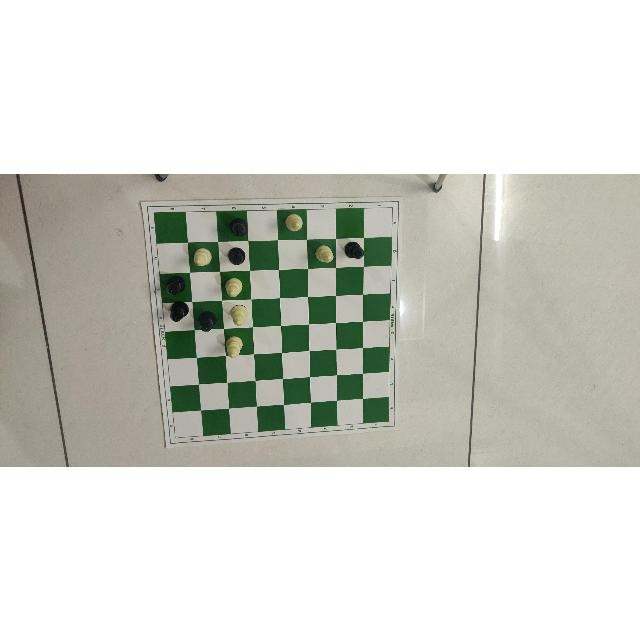black-bishop: (194, 305, 219, 336), (340, 237, 364, 265), (163, 271, 189, 295), (164, 298, 189, 322), (225, 215, 248, 238), (228, 243, 247, 268)
white-bishop: (312, 241, 336, 268), (281, 212, 307, 236), (189, 245, 214, 269), (229, 299, 249, 329), (224, 333, 246, 357), (226, 274, 246, 298)
